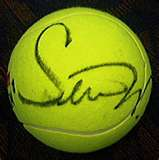tennis ball: (8, 6, 153, 154)
